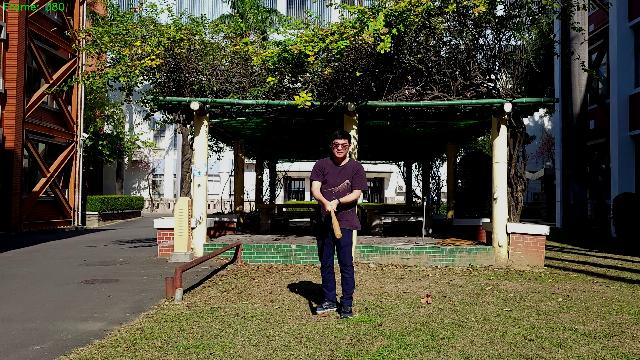bat: (330, 208, 342, 238)
